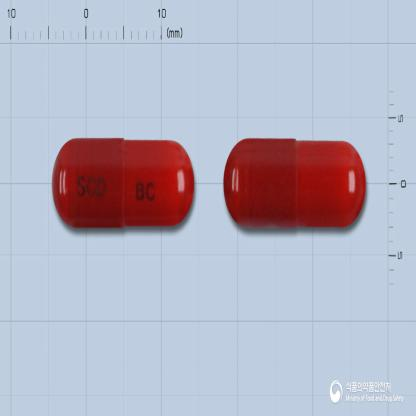pill: (51, 135, 195, 230), (222, 137, 366, 229)
